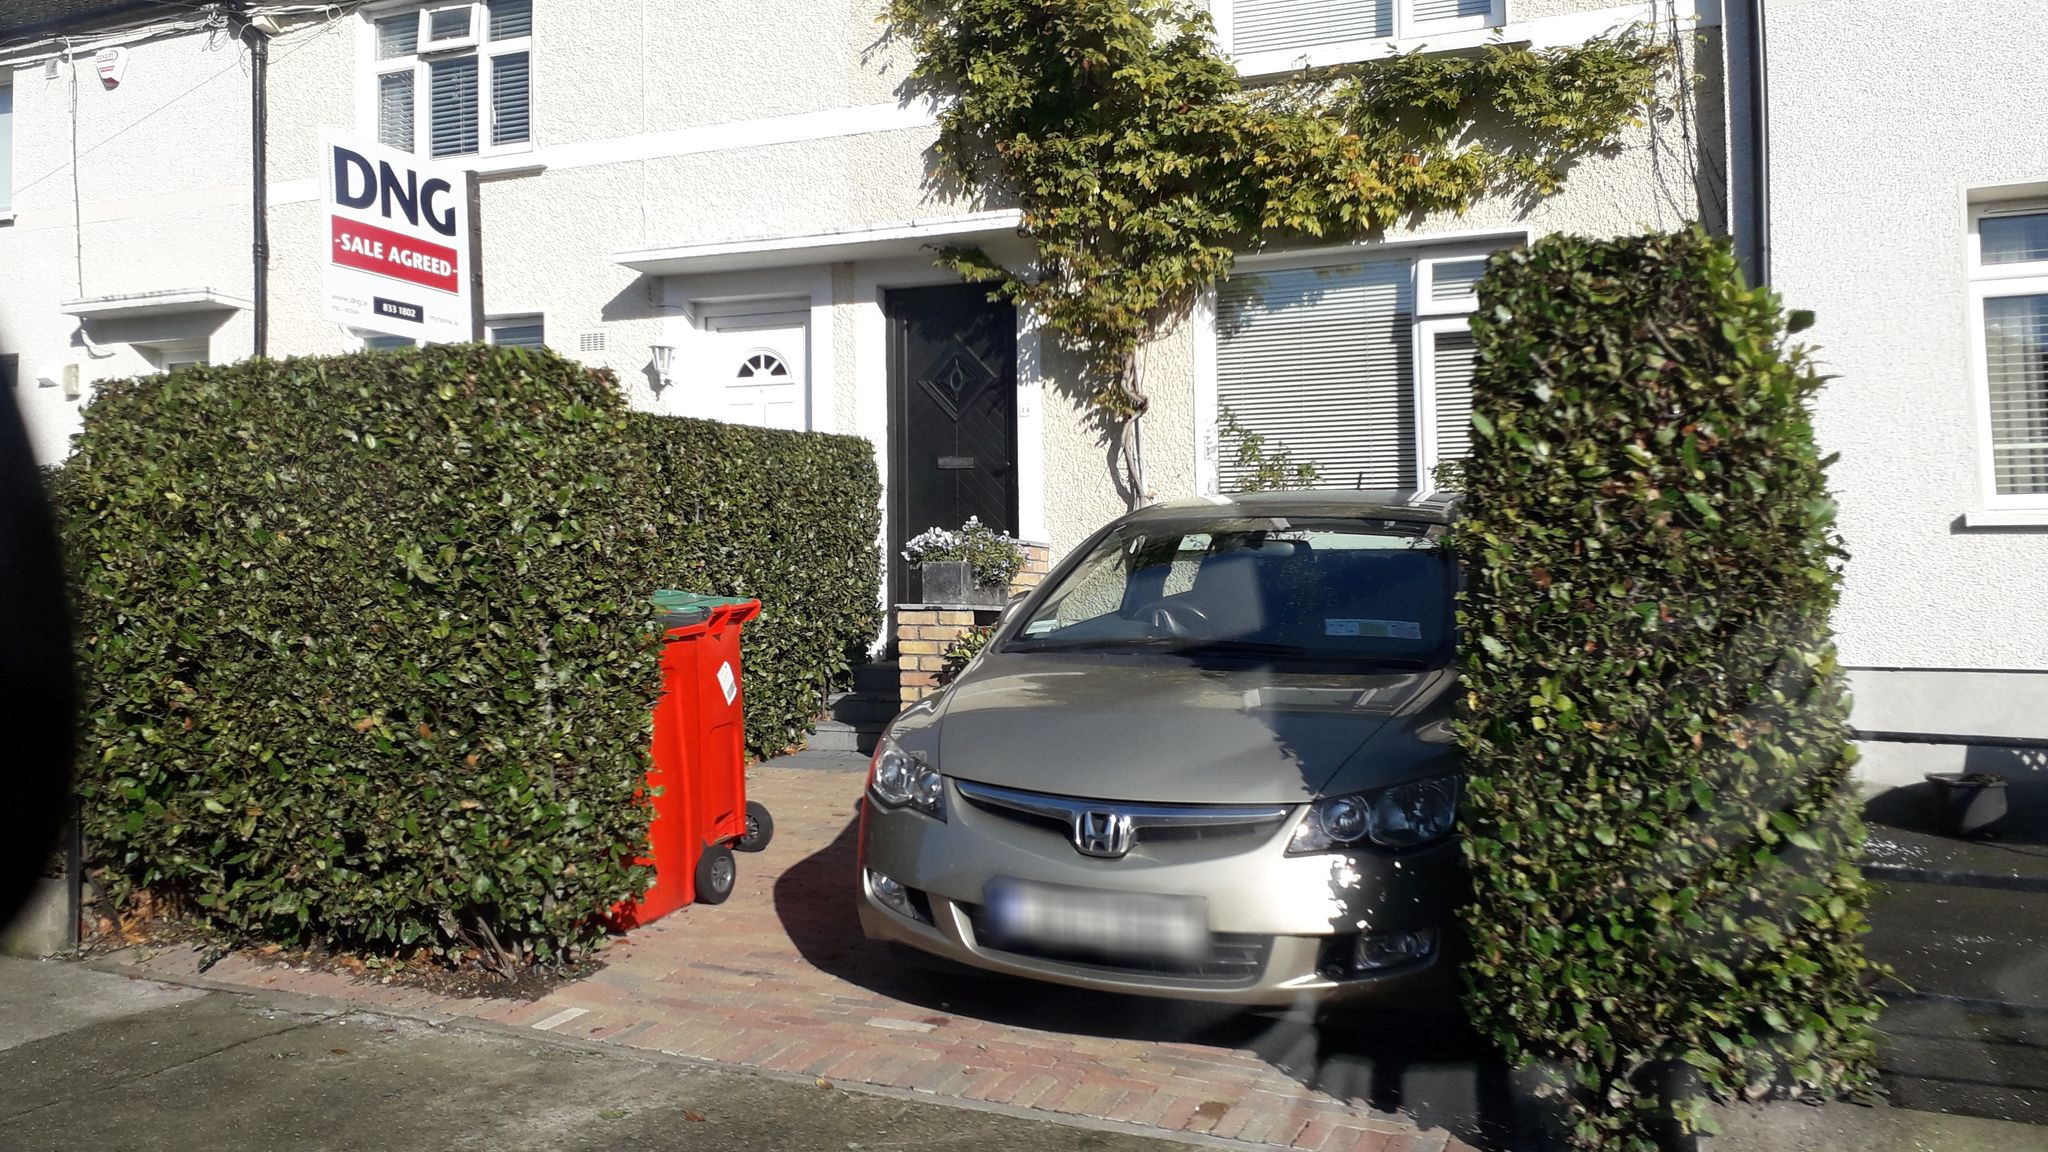property sign: (301, 101, 489, 370)
